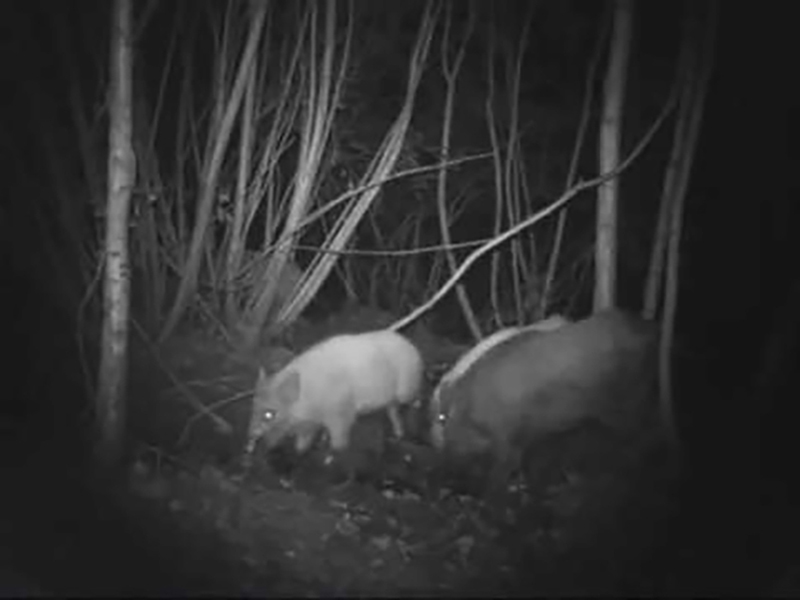cinghiale: (452, 303, 664, 491), (247, 330, 425, 452)
